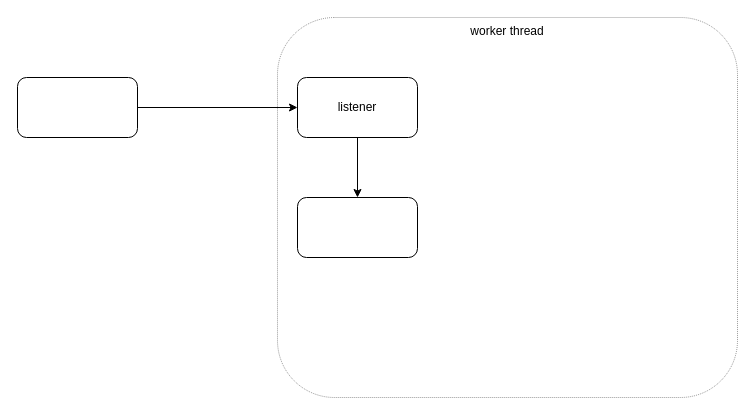
The diagram is 755 pixels wide and 415 high, and some of its shapes have lost their labels. The shapes that lost their labels are listed below. From the top down, each one's centre as x and y in pixels, then its label:
[77,107]: client (Downstream)
[357,227]: listener filter
